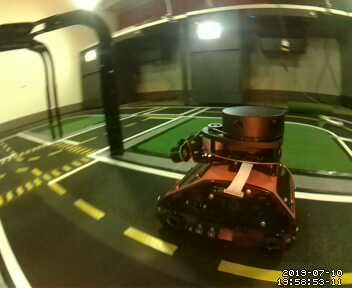pheeno: (154, 104, 300, 256)
